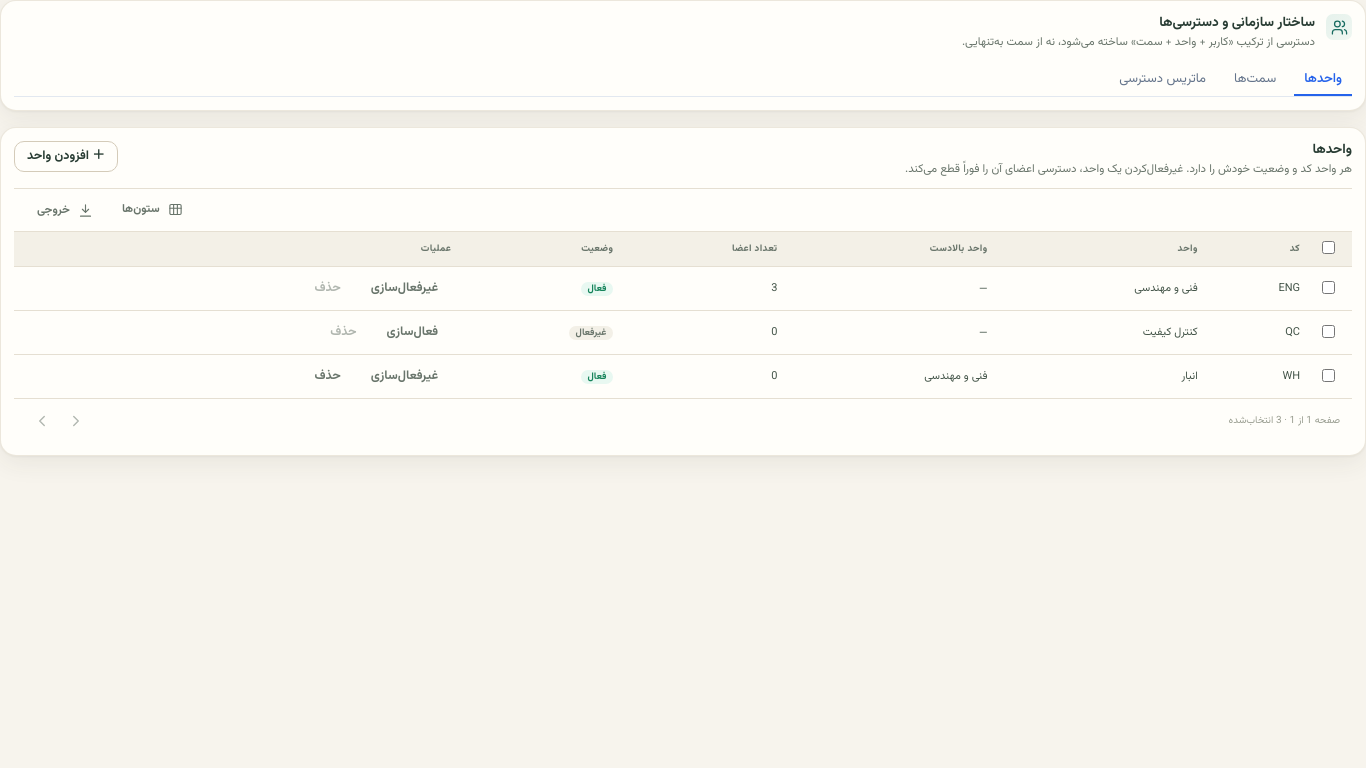
it: organisation structure page — units › shows a server refusal verbatim rather than a generic failure
This screenshot has width=1366, height=768.
Expected: the text "ENG" is shown, 1207,267 -> 1309,311
Step 1. Click the button "＋ افزودن واحد" → (66, 157), box 14,141 -> 118,172
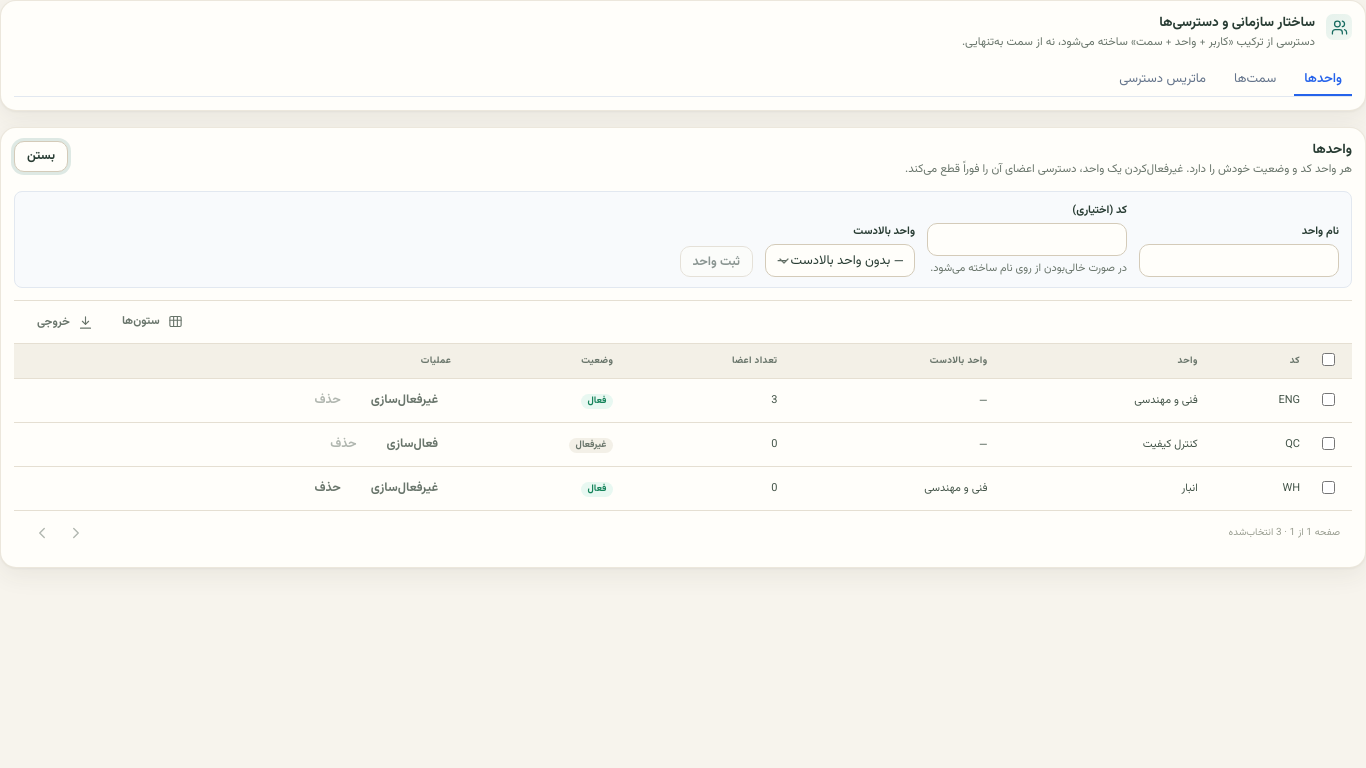
Step 2. Type "دیگر" into the field labelled "نام واحد" → (1239, 261), box 1139,244 -> 1339,277
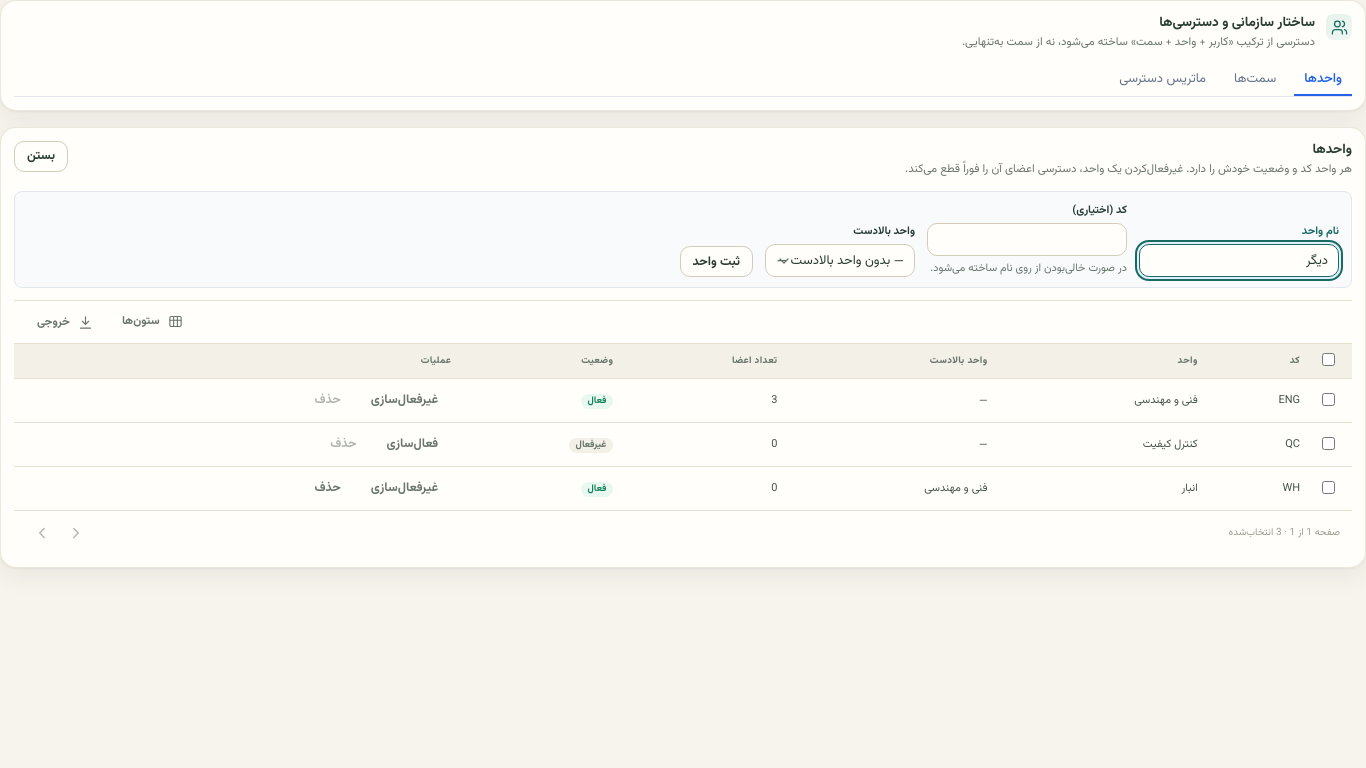
Step 3. Click the button "ثبت واحد" → (716, 262), box 680,246 -> 753,277
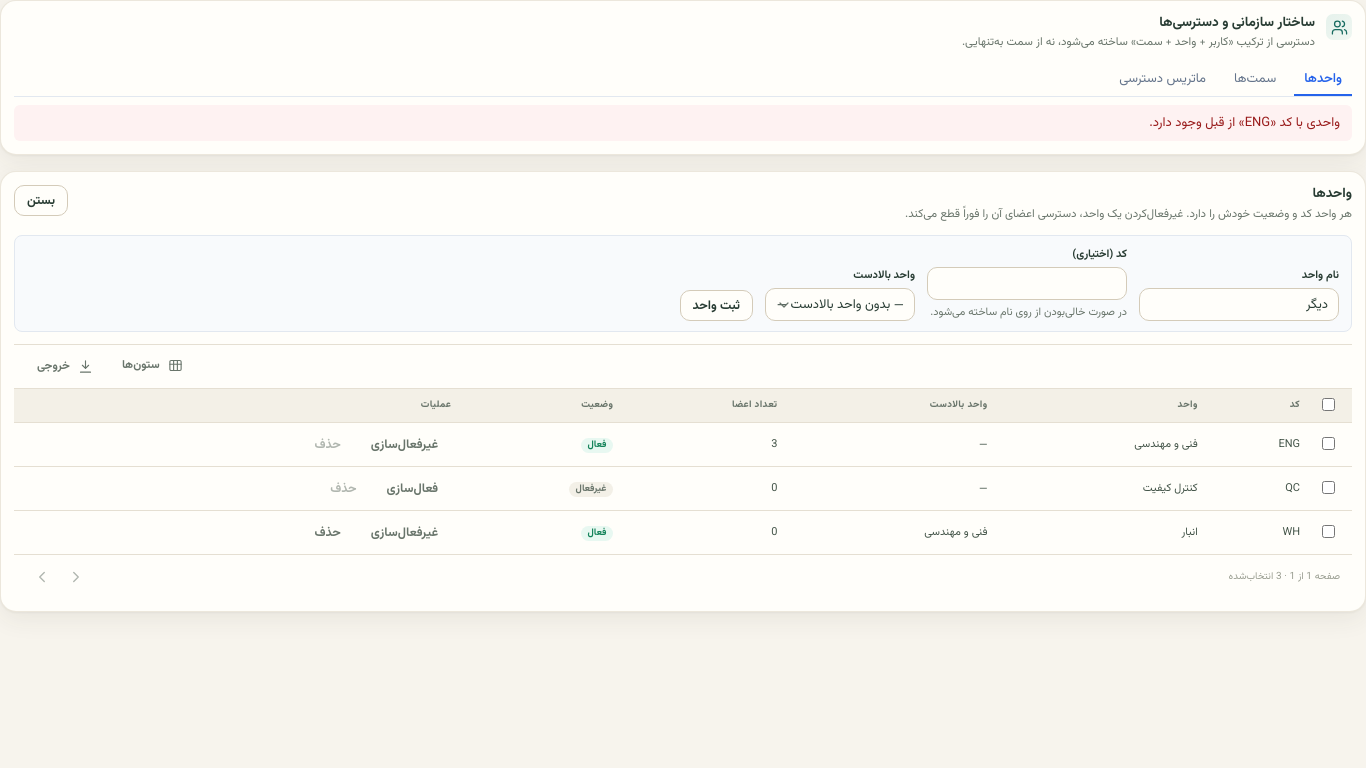
Expected: the text "واحدی با کد «ENG» از قبل وجود دارد." is shown, 14,105 -> 1352,141
